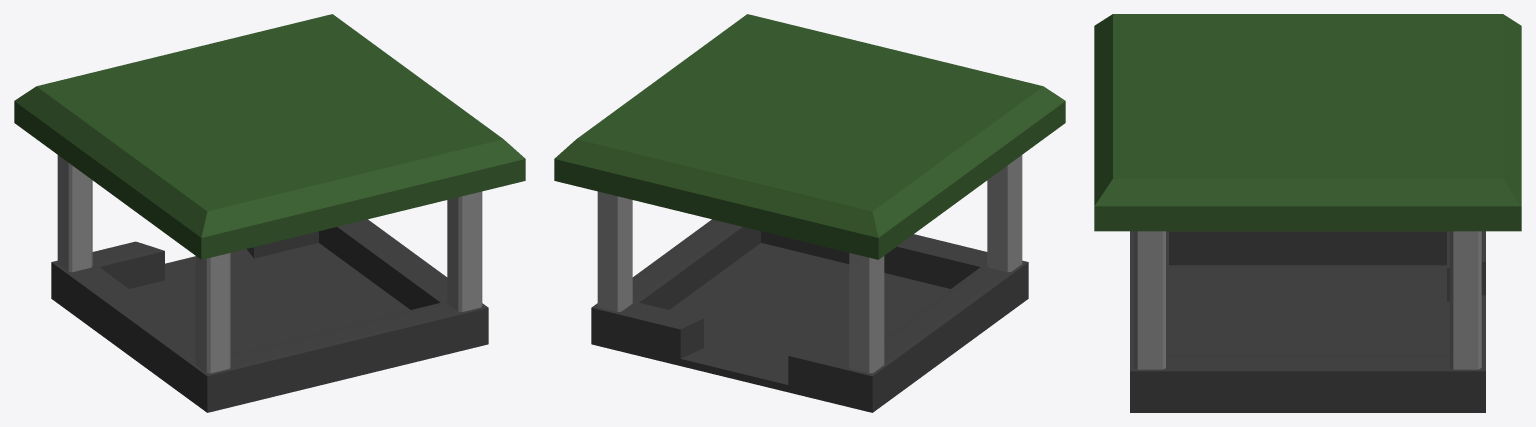
The model's file is GateKeeperStation.glb.
3 views of the same model, side by side, from view 1: azimuth 30°, elevation 25°; view 2: azimuth 150°, elevation 25°; view 3: azimuth 270°, elevation 25° (orthographic). The views are drawn at different scales.
Visible parts, largest first — view 1: GateKeeperStation; view 2: GateKeeperStation; view 3: GateKeeperStation.
Part boxes in pixels (x1=…): GateKeeperStation: x1=14, y1=14, x2=525, y2=412; GateKeeperStation: x1=554, y1=14, x2=1065, y2=412; GateKeeperStation: x1=1094, y1=14, x2=1521, y2=412.
Bounding box in the file's own units: 7.66 × 4.71 × 7.66.
